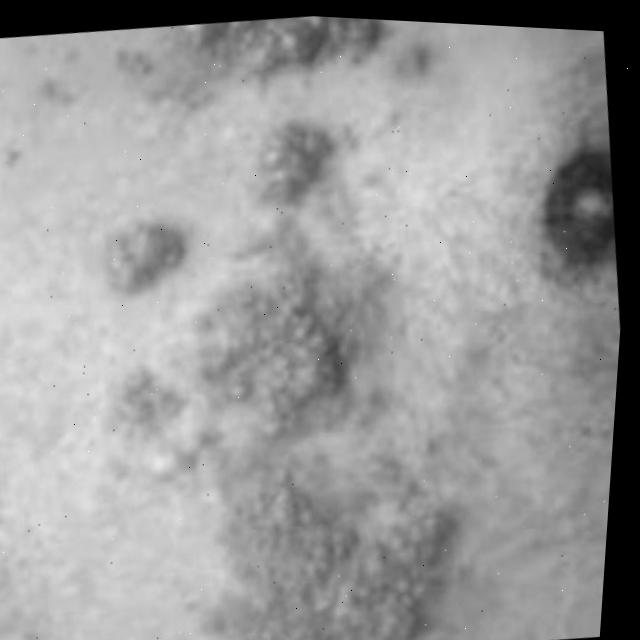Shingles: (73, 180, 489, 640), (172, 9, 386, 100), (241, 115, 342, 214)
